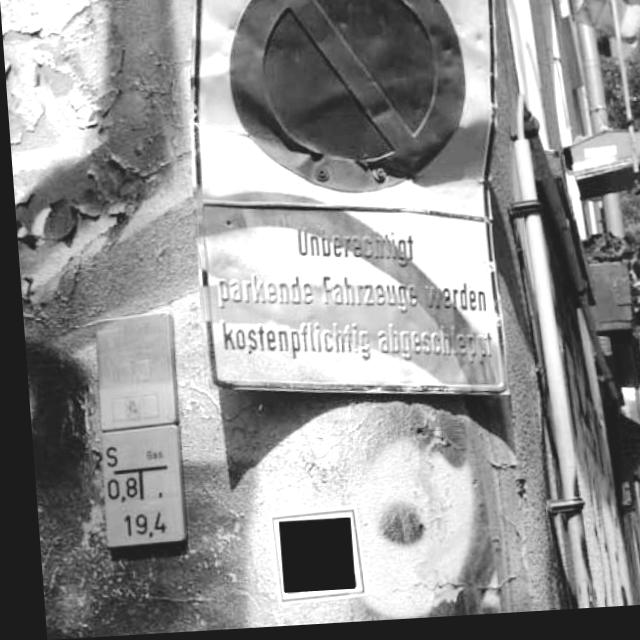qr_code: (271, 521, 345, 596)
